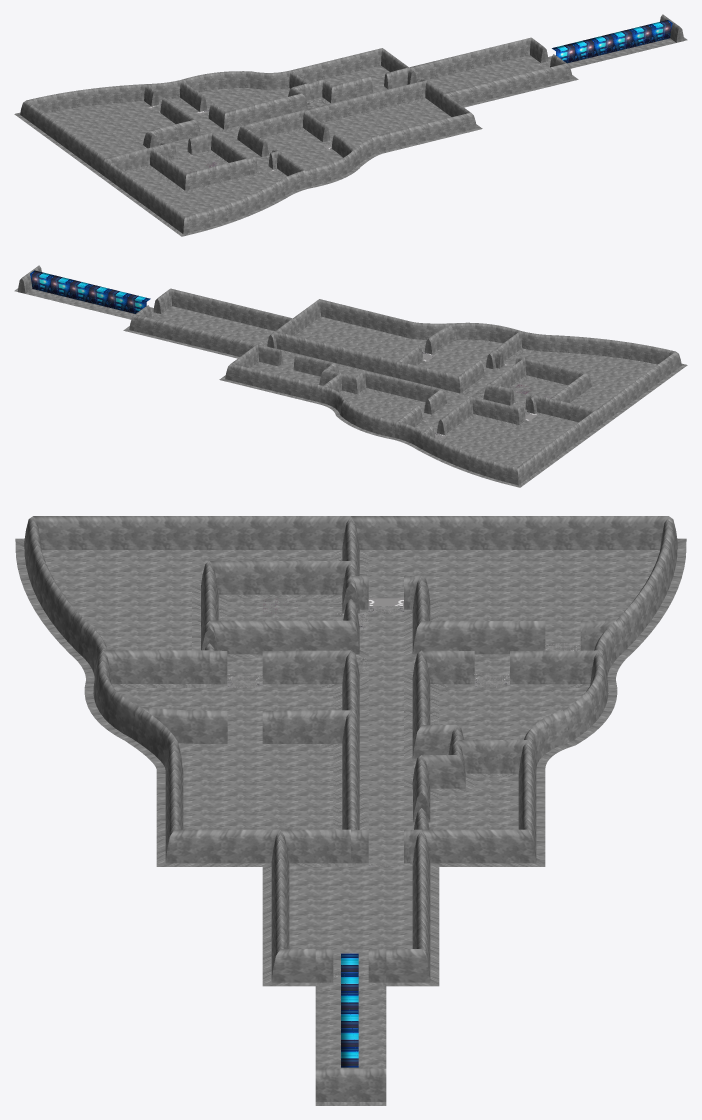
Rendered from level_6.gltf.
The picture shows the model from 3 angles, top to bottom: view 1: azimuth 30°, elevation 25°; view 2: azimuth 150°, elevation 25°; view 3: azimuth 270°, elevation 25°; orthographic projection. The views are drawn at different scales.
Visible parts, largest first — view 1: Mesh_4, Mesh_10, Mesh_160, Mesh_28, Mesh_38, Mesh_112, Mesh_1, Mesh_50, Mesh_14, Mesh_9, Mesh_16, Mesh_24 (+36 smaller); view 2: Mesh_10, Mesh_4, Mesh_1, Mesh_160, Mesh_112, Mesh_38, Mesh_28, Mesh_16, Mesh_14, Mesh_9, Mesh_50, Mesh_42 (+36 smaller); view 3: Mesh_10, Mesh_14, Mesh_52, Mesh_54, Mesh_4, Mesh_1, Mesh_3, Mesh_8, Mesh_9, Mesh_15, Mesh_12, Mesh_64 (+47 smaller).
Boxes of the visible parts, left/top/right/bottom form: Mesh_4: left=44, top=101, right=175, bottom=143; Mesh_10: left=324, top=100, right=451, bottom=149; Mesh_160: left=552, top=20, right=672, bottom=63; Mesh_28: left=444, top=63, right=572, bottom=105; Mesh_38: left=409, top=37, right=531, bottom=82; Mesh_112: left=304, top=80, right=426, bottom=122; Mesh_1: left=185, top=168, right=284, bottom=216; Mesh_50: left=26, top=84, right=146, bottom=113; Mesh_14: left=427, top=55, right=549, bottom=92; Mesh_9: left=263, top=130, right=342, bottom=170; Mesh_16: left=183, top=181, right=282, bottom=234; Mesh_24: left=379, top=112, right=476, bottom=151; Mesh_10: left=297, top=316, right=429, bottom=360; Mesh_4: left=435, top=416, right=517, bottom=467; Mesh_1: left=502, top=348, right=657, bottom=385; Mesh_160: left=30, top=270, right=150, bottom=313; Mesh_112: left=275, top=331, right=397, bottom=377; Mesh_38: left=129, top=314, right=257, bottom=356; Mesh_28: left=170, top=288, right=292, bottom=330; Mesh_16: left=555, top=335, right=675, bottom=364; Mesh_14: left=152, top=306, right=274, bottom=346; Mesh_9: left=417, top=339, right=502, bottom=375; Mesh_50: left=419, top=432, right=518, bottom=485; Mesh_42: left=225, top=363, right=322, bottom=402; Mesh_10: left=178, top=738, right=333, bottom=829; Mesh_14: left=289, top=859, right=412, bottom=978; Mesh_52: left=351, top=516, right=668, bottom=549; Mesh_54: left=33, top=516, right=350, bottom=549; Mesh_4: left=439, top=550, right=659, bottom=650; Mesh_1: left=42, top=550, right=191, bottom=650; Mesh_3: left=361, top=550, right=651, bottom=601; Mesh_8: left=439, top=680, right=590, bottom=739; Mesh_9: left=112, top=680, right=333, bottom=738; Mesh_15: left=315, top=979, right=386, bottom=1068; Mesh_12: left=368, top=744, right=415, bottom=859; Mesh_64: left=210, top=620, right=359, bottom=654.
Bounding box in the file's own units: 61.77 × 1.55 × 30.89.
Materials: 6 (6 with a texture image).
